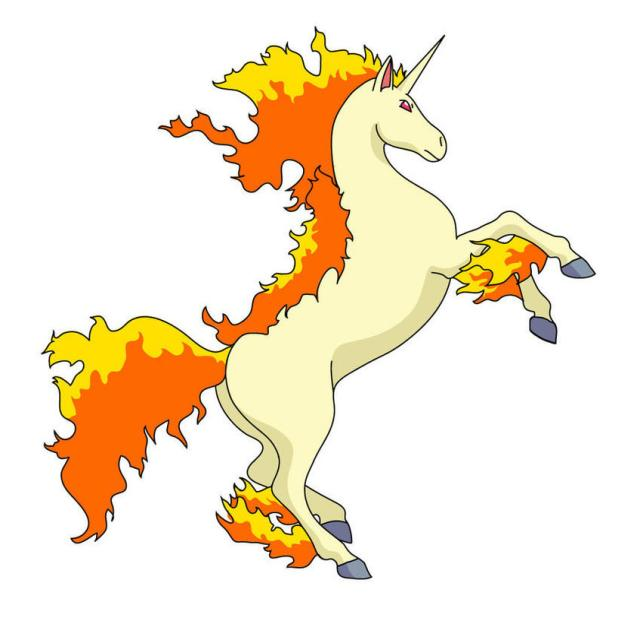Rapidash: (194, 21, 462, 578)
